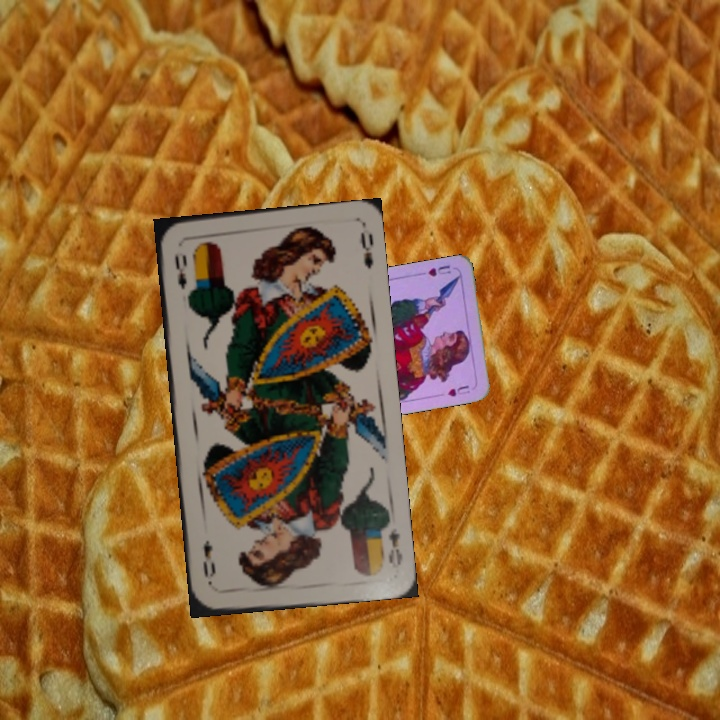EO: (384, 524, 405, 571), (171, 249, 190, 292)
HU: (424, 261, 453, 279)
